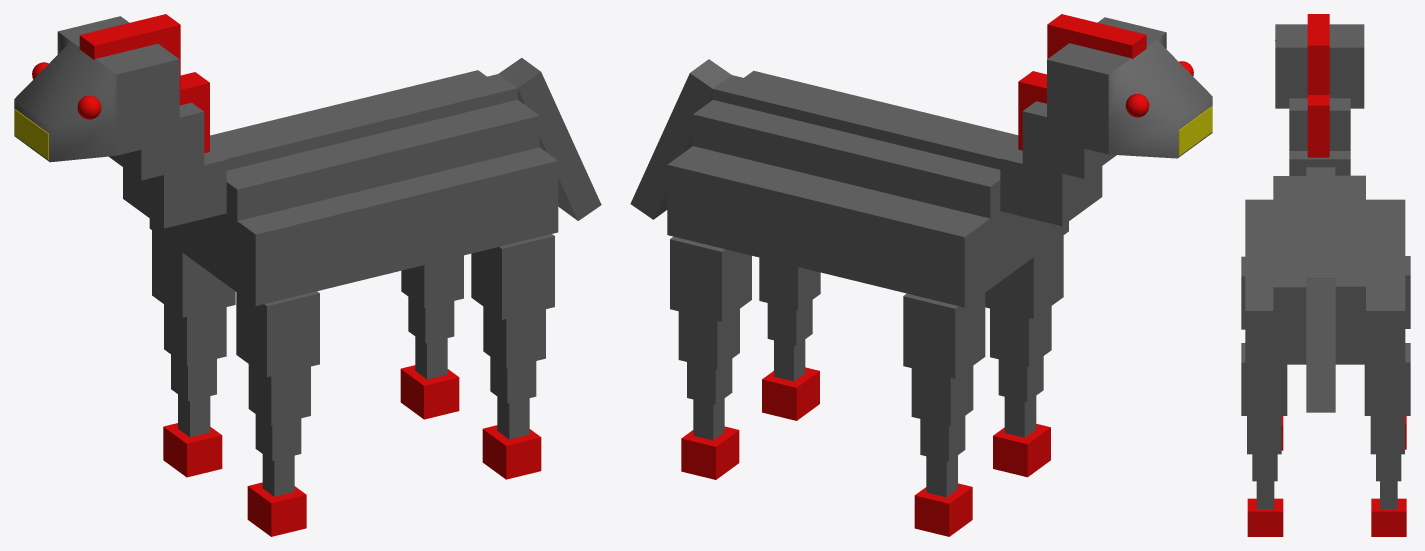
Rendered from Horse.fbx.
3 renders of one model, left to right at view 1: azimuth 30°, elevation 25°; view 2: azimuth 150°, elevation 25°; view 3: azimuth 270°, elevation 25°, orthographic. The views are drawn at different scales.
Parts seen in each view (by area): view 1: polySurface35, polySurface38, polySurface21, polySurface25, polySurface36, polySurface39, polySurface43, polySurface16, polySurface37, polySurface17, polySurface22, polySurface26 (+14 smaller); view 2: polySurface35, polySurface38, polySurface16, polySurface30, polySurface36, polySurface39, polySurface43, polySurface21, polySurface37, polySurface17, polySurface31, polySurface22 (+14 smaller); view 3: polySurface35, polySurface38, polySurface39, polySurface43, polySurface30, polySurface25, polySurface37, polySurface26, polySurface31, polySurface29, polySurface34, polySurface36 (+6 smaller).
Part boxes in pixels (left/top/right/bottom): polySurface35: left=149, top=70, right=558, bottom=305; polySurface38: left=14, top=16, right=179, bottom=162; polySurface21: left=236, top=291, right=319, bottom=377; polySurface25: left=471, top=234, right=554, bottom=319; polySurface36: left=123, top=148, right=226, bottom=228; polySurface39: left=498, top=58, right=601, bottom=220; polySurface43: left=79, top=14, right=209, bottom=153; polySurface16: left=152, top=230, right=235, bottom=317; polySurface37: left=109, top=102, right=204, bottom=180; polySurface17: left=164, top=304, right=226, bottom=365; polySurface22: left=248, top=364, right=310, bottom=425; polySurface26: left=483, top=306, right=545, bottom=368; polySurface35: left=667, top=70, right=1068, bottom=307; polySurface38: left=1047, top=17, right=1212, bottom=158; polySurface16: left=903, top=293, right=985, bottom=378; polySurface30: left=670, top=236, right=751, bottom=321; polySurface36: left=1000, top=146, right=1102, bottom=225; polySurface39: left=630, top=59, right=731, bottom=219; polySurface43: left=1018, top=14, right=1146, bottom=150; polySurface21: left=985, top=235, right=1063, bottom=318; polySurface37: left=1022, top=101, right=1116, bottom=178; polySurface17: left=911, top=366, right=973, bottom=426; polySurface31: left=678, top=309, right=739, bottom=369; polySurface22: left=990, top=306, right=1051, bottom=366; polySurface35: left=1245, top=167, right=1405, bottom=364; polySurface38: left=1275, top=24, right=1364, bottom=108; polySurface39: left=1306, top=278, right=1335, bottom=412; polySurface43: left=1307, top=14, right=1329, bottom=157; polySurface30: left=1364, top=343, right=1410, bottom=415; polySurface25: left=1241, top=343, right=1287, bottom=415; polySurface37: left=1289, top=98, right=1350, bottom=150; polySurface26: left=1247, top=416, right=1281, bottom=454; polySurface31: left=1370, top=416, right=1404, bottom=454; polySurface29: left=1247, top=498, right=1283, bottom=536; polySurface34: left=1371, top=498, right=1406, bottom=536; polySurface36: left=1289, top=151, right=1350, bottom=175.
Bounding box in the file's own units: 3.11 × 2.61 × 1.08.
